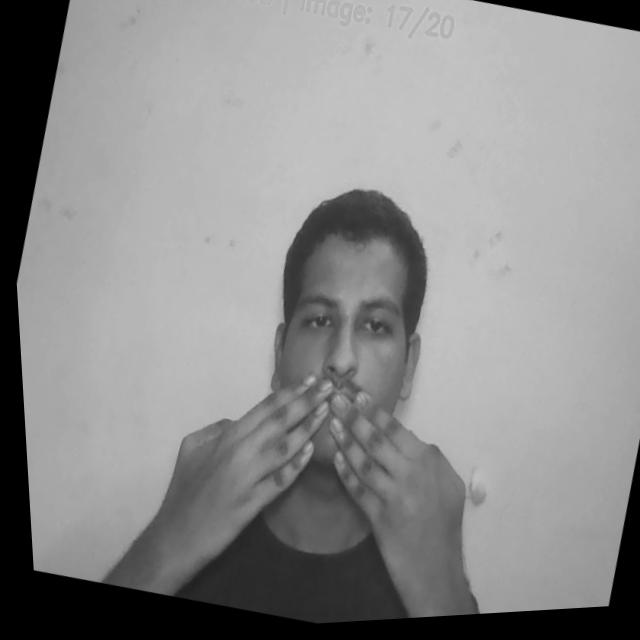Thank You: (136, 349, 493, 634)
